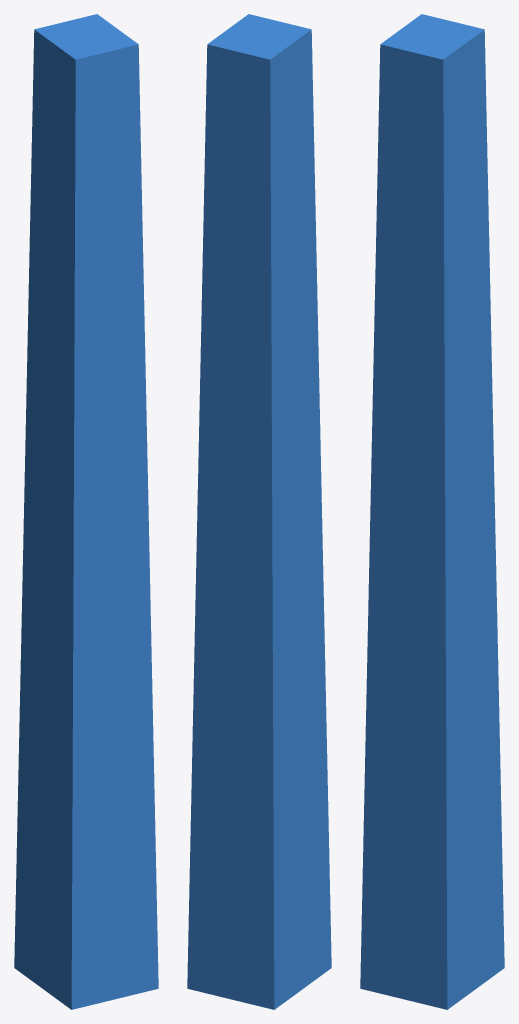
Rendered from Collision_Corner_ExteriorWide_Wood.fbx.
The picture shows the model from 3 angles, left to right: view 1: azimuth 30°, elevation 25°; view 2: azimuth 150°, elevation 25°; view 3: azimuth 330°, elevation 25°; orthographic projection.
Parts seen in each view (by area): view 1: UCX_Corner_ExteriorWide_Wood_1; view 2: UCX_Corner_ExteriorWide_Wood_1; view 3: UCX_Corner_ExteriorWide_Wood_1.
Part boxes in pixels (<box>): UCX_Corner_ExteriorWide_Wood_1: <box>14,14,158,1009</box>; UCX_Corner_ExteriorWide_Wood_1: <box>187,14,331,1009</box>; UCX_Corner_ExteriorWide_Wood_1: <box>360,14,504,1009</box>.
Bounding box in the file's own units: 29.05 × 300 × 33.12.
